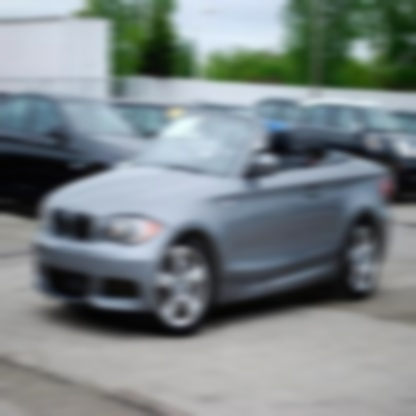Vehicle: (32, 108, 392, 340)
